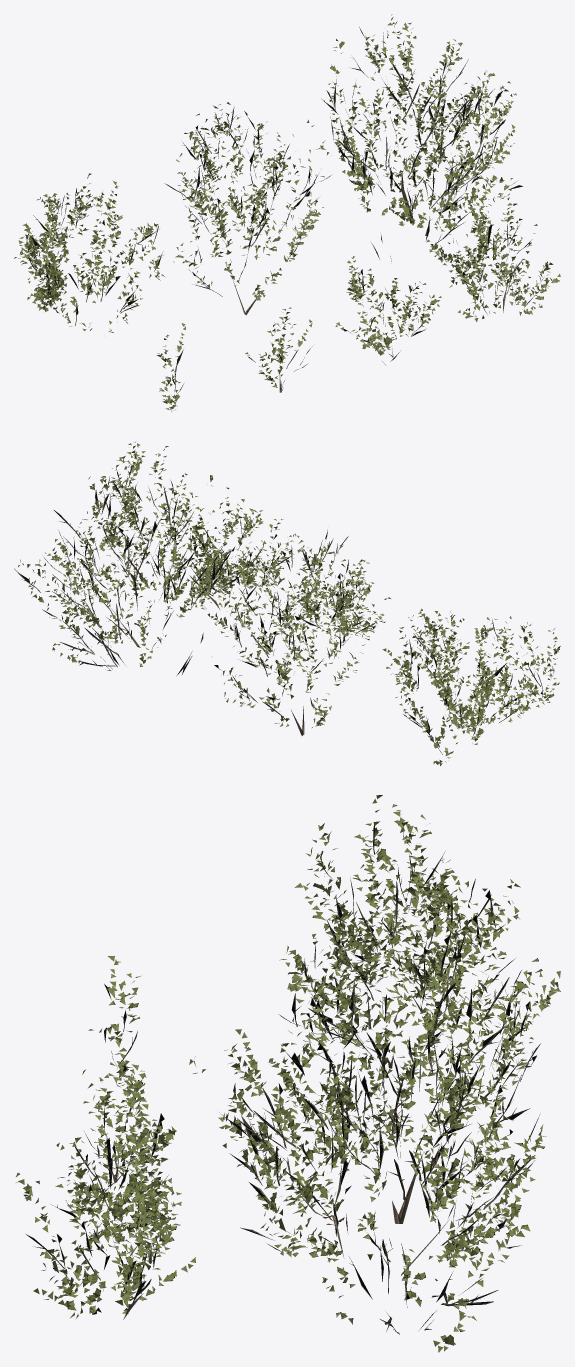
The model's file is searsia_lucida.glb.
3 views of the same model, one above another, from view 1: azimuth 30°, elevation 25°; view 2: azimuth 150°, elevation 25°; view 3: azimuth 270°, elevation 25° (orthographic). The views are drawn at different scales.
Visible parts, largest first — view 1: searsia_lucida_a_LOD0; view 2: searsia_lucida_a_LOD0; view 3: searsia_lucida_a_LOD0.
Part boxes in pixels (left/top/right/bottom): searsia_lucida_a_LOD0: left=14, top=14, right=560, bottom=411; searsia_lucida_a_LOD0: left=14, top=442, right=560, bottom=765; searsia_lucida_a_LOD0: left=16, top=795, right=560, bottom=1352.
Size of the model in its own units: 4.69 by 2.28 by 2.79.
Materials: 2 (2 with a texture image).
